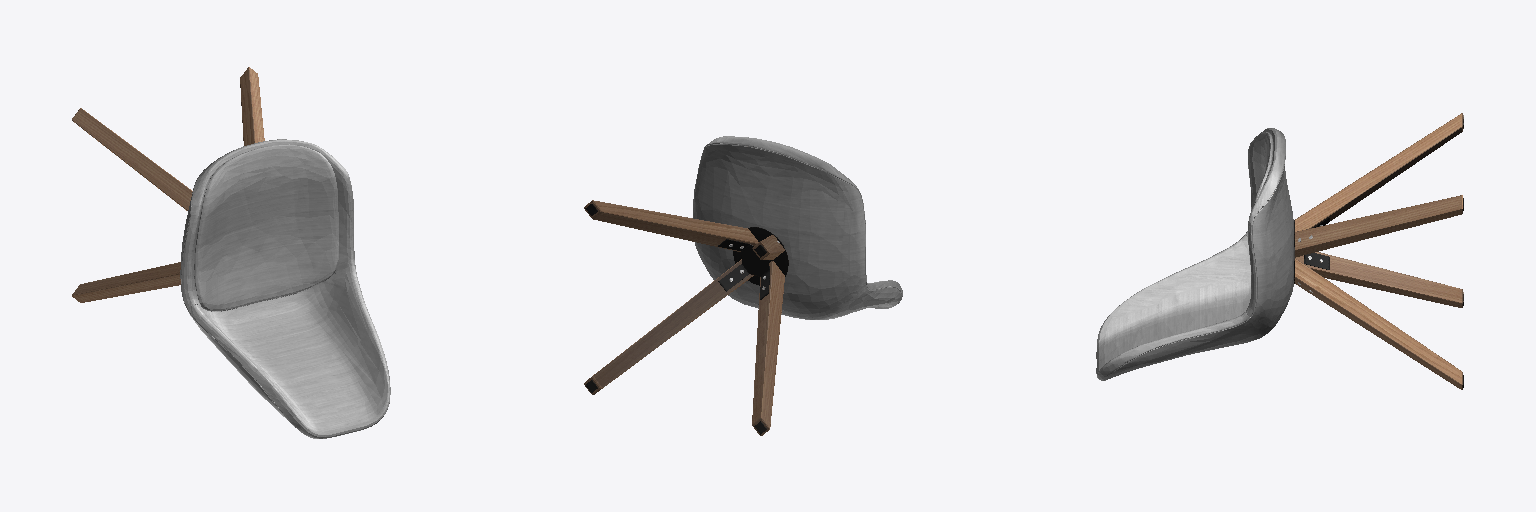
3 views of the same model, side by side, from view 1: azimuth 30°, elevation 25°; view 2: azimuth 150°, elevation 25°; view 3: azimuth 270°, elevation 25° (orthographic).
Bounding box in the file's own units: 0.5184 × 0.6009 × 0.8838.
Materials: 1 (1 with a texture image).